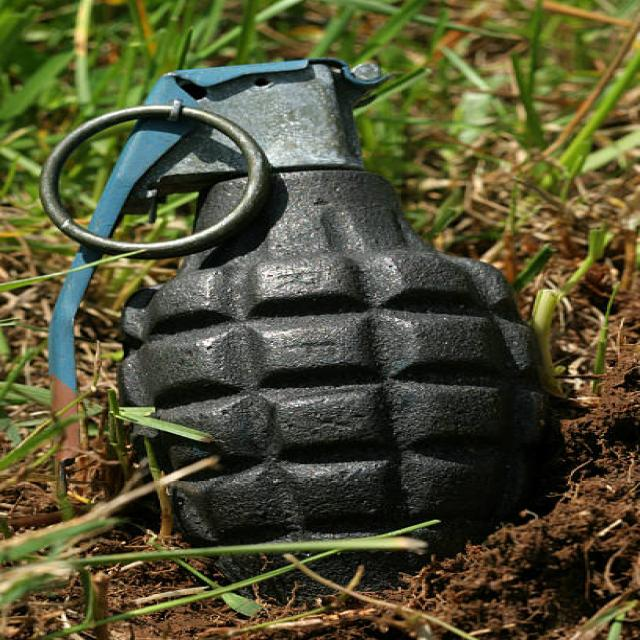grenade: (35, 47, 577, 588)
